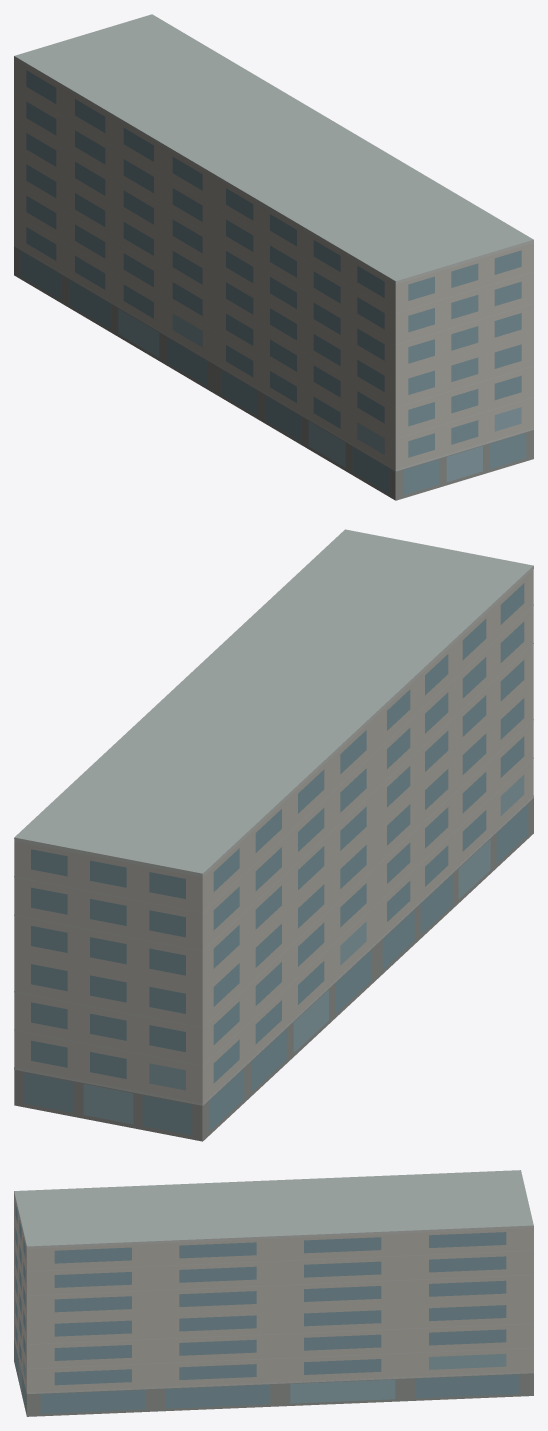
The model's file is residential-2bd573ce-a468-4722-ac68-e8386badc7fd.glb.
The picture shows the model from 3 angles, top to bottom: view 1: azimuth 30°, elevation 25°; view 2: azimuth 150°, elevation 25°; view 3: azimuth 270°, elevation 25°; orthographic projection. The views are drawn at different scales.
Parts seen in each view (by area): view 1: residential-2bd573ce-a468-4722-ac68-e8386badc7fd.tmp; view 2: residential-2bd573ce-a468-4722-ac68-e8386badc7fd.tmp; view 3: residential-2bd573ce-a468-4722-ac68-e8386badc7fd.tmp.
Boxes of the visible parts, x1,y1,x2,y2 form: residential-2bd573ce-a468-4722-ac68-e8386badc7fd.tmp: [14, 14, 533, 500]; residential-2bd573ce-a468-4722-ac68-e8386badc7fd.tmp: [14, 529, 533, 1141]; residential-2bd573ce-a468-4722-ac68-e8386badc7fd.tmp: [14, 1170, 533, 1416].
Bounding box in the file's own units: 16.37 × 17 × 47.02.
